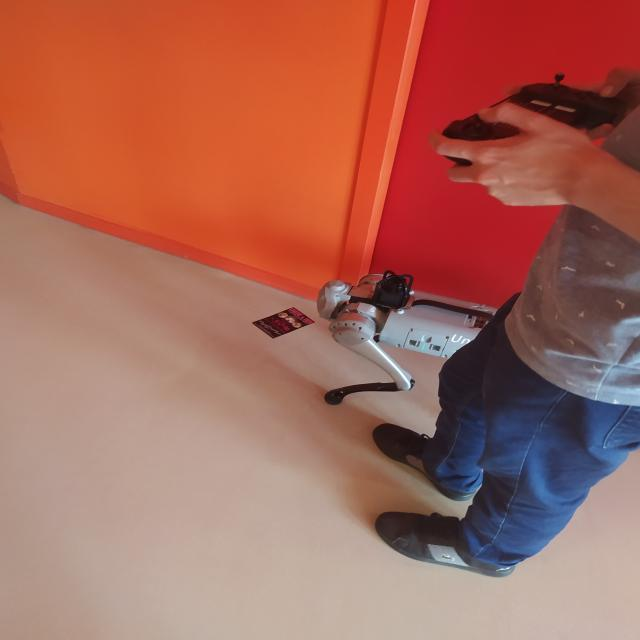unitree-go1-robot: (304, 257, 512, 419)
